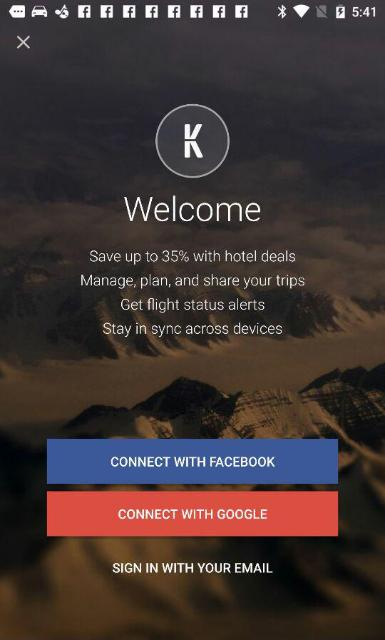BackgroundImage: (0, 21, 384, 640)
Icon: (17, 35, 31, 49)
Image: (155, 104, 229, 178)
Text: (81, 249, 305, 337), (124, 194, 260, 222), (112, 562, 272, 574), (111, 457, 275, 467), (118, 509, 268, 519)
TextButton: (46, 490, 338, 536), (47, 439, 337, 483)
UpperTaskBar: (0, 1, 384, 20)
